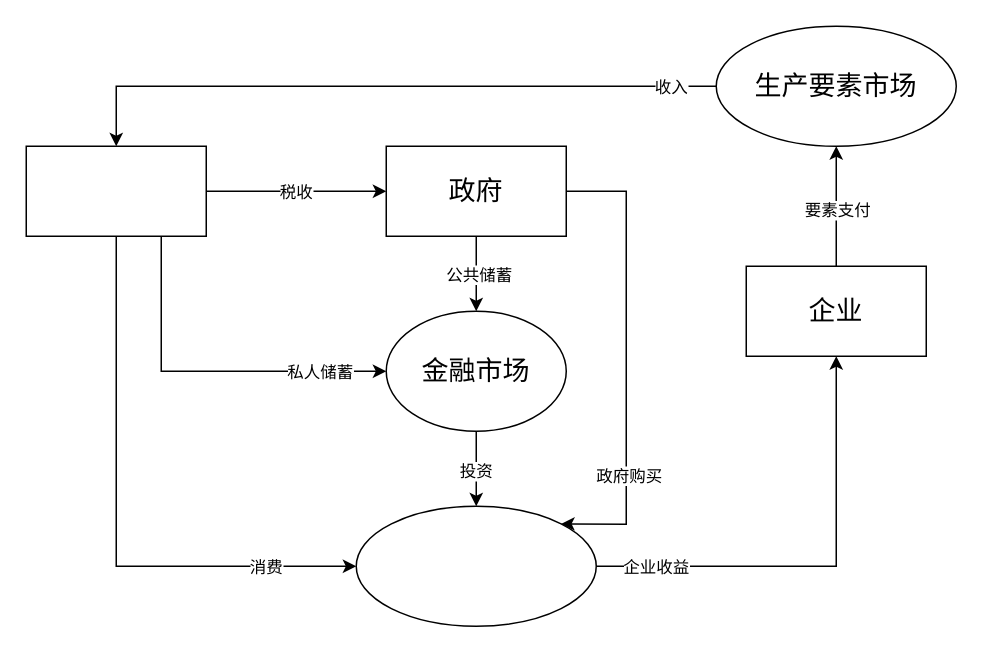
The diagram is 983 pixels wide and 653 high, and some of its shapes have lost their labels. The shapes that lost their labels are listed below. From the top down, each one's centre as x and y in pixels, then its label:
the point at 115,190: 家庭
the point at 475,565: 产品与服务市场
